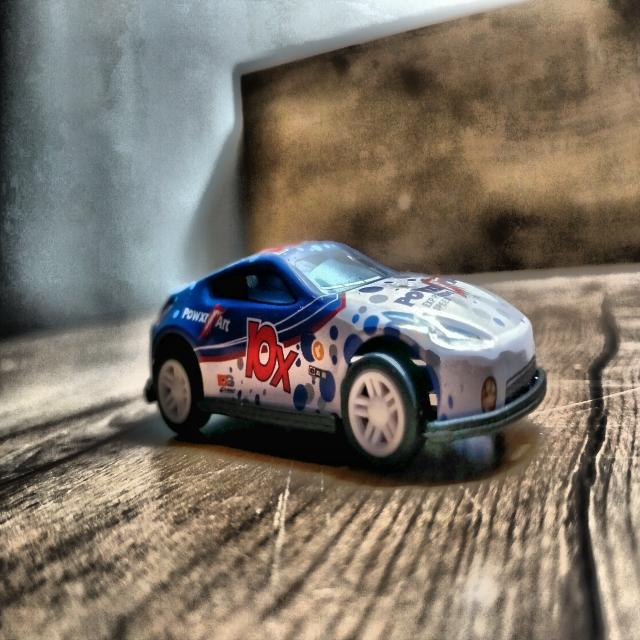Car: (146, 242, 545, 469)
